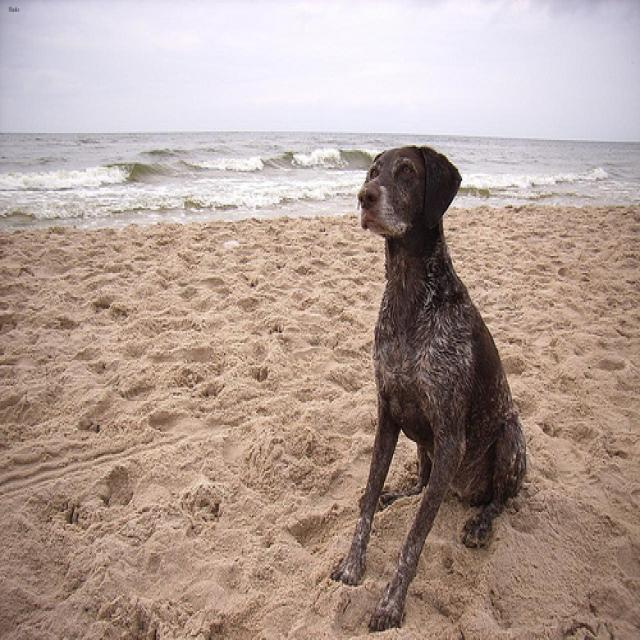dog-german_shorthaired: (324, 131, 539, 637)
